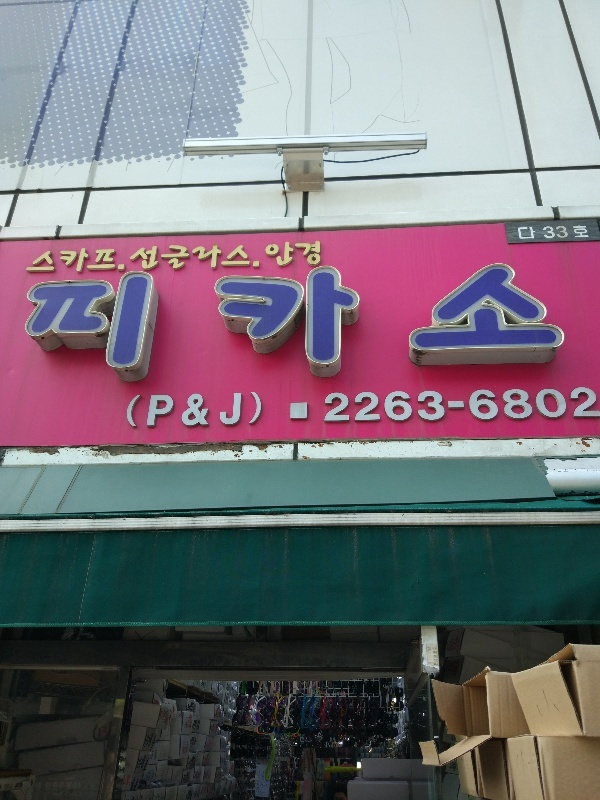text: (49, 264, 64, 374), (65, 264, 80, 374), (81, 264, 96, 374), (97, 264, 112, 374), (113, 264, 128, 374), (129, 264, 144, 374), (145, 264, 160, 374), (161, 264, 176, 374), (177, 264, 192, 374), (193, 264, 208, 374), (209, 264, 224, 374), (225, 264, 240, 374), (241, 264, 256, 374), (257, 264, 272, 374), (273, 264, 288, 374), (289, 264, 304, 374), (305, 264, 320, 374), (321, 264, 336, 374), (337, 264, 352, 374), (353, 264, 368, 374), (369, 264, 384, 374), (385, 264, 400, 374), (401, 264, 416, 374), (417, 264, 432, 374), (433, 264, 448, 374), (449, 264, 464, 374), (465, 264, 480, 374), (481, 264, 496, 374), (497, 264, 512, 374), (513, 264, 528, 374), (529, 264, 544, 374), (545, 264, 560, 374), (35, 264, 48, 374), (289, 381, 304, 427), (305, 381, 320, 427), (321, 381, 336, 427), (337, 381, 352, 427), (353, 381, 368, 427), (369, 381, 384, 427), (385, 381, 400, 427), (401, 381, 416, 427), (417, 381, 432, 427), (433, 381, 448, 427), (449, 381, 464, 427), (465, 381, 480, 427), (481, 381, 496, 427), (497, 381, 512, 427), (513, 381, 528, 427), (529, 381, 544, 427), (545, 381, 560, 427), (561, 381, 576, 427), (577, 381, 592, 427), (561, 264, 567, 374), (129, 390, 144, 429), (145, 390, 160, 429), (161, 390, 176, 429), (177, 390, 192, 429), (193, 390, 208, 429), (209, 390, 224, 429), (225, 390, 240, 429), (241, 390, 256, 429), (273, 239, 288, 269), (289, 239, 304, 269), (305, 239, 320, 269), (145, 244, 160, 273), (161, 244, 176, 273), (177, 244, 192, 273), (193, 244, 208, 273), (209, 244, 224, 273), (225, 244, 240, 273), (241, 244, 256, 273), (49, 246, 64, 275), (65, 246, 80, 275), (81, 246, 96, 275), (97, 246, 112, 275), (113, 246, 128, 275), (593, 381, 600, 427), (449, 631, 461, 656), (257, 390, 264, 429), (49, 776, 64, 793), (65, 776, 80, 793), (529, 224, 544, 241), (545, 224, 560, 241), (561, 224, 576, 241), (148, 733, 160, 754), (449, 659, 462, 678), (264, 239, 272, 269), (136, 244, 144, 273), (146, 769, 160, 785), (193, 786, 208, 800), (36, 776, 48, 793), (577, 224, 589, 241), (41, 246, 48, 275), (193, 719, 208, 732), (182, 738, 192, 757), (518, 224, 528, 241), (451, 760, 464, 773), (134, 776, 144, 792), (211, 723, 224, 735), (226, 693, 240, 704), (195, 771, 208, 782), (194, 704, 208, 714), (161, 708, 169, 725), (165, 717, 176, 729), (183, 771, 192, 784), (216, 768, 224, 782), (229, 734, 240, 744), (229, 710, 240, 720), (231, 699, 240, 711), (228, 683, 240, 692), (4, 782, 16, 791), (145, 755, 151, 772), (215, 707, 224, 718), (151, 749, 160, 760), (201, 784, 208, 798), (451, 735, 464, 742), (233, 683, 240, 696), (257, 244, 260, 273), (201, 681, 208, 693), (170, 710, 176, 724), (126, 390, 128, 429), (219, 707, 224, 722), (196, 680, 208, 686), (185, 719, 192, 729), (165, 701, 176, 707), (433, 647, 448, 651), (257, 786, 272, 790), (209, 739, 214, 751), (434, 654, 448, 658), (220, 754, 224, 768), (188, 715, 192, 729), (187, 789, 192, 800), (193, 755, 197, 768), (81, 776, 84, 793), (141, 755, 144, 772), (209, 769, 213, 781), (193, 737, 197, 749), (287, 381, 288, 427), (433, 651, 448, 654), (257, 783, 272, 786), (257, 779, 272, 782), (155, 697, 160, 706), (261, 783, 272, 787), (225, 708, 229, 719), (129, 774, 132, 788), (434, 663, 448, 666), (434, 659, 448, 662), (258, 776, 272, 779), (134, 796, 144, 800), (257, 791, 267, 795), (262, 779, 272, 783), (262, 775, 272, 779), (219, 728, 224, 736), (188, 703, 192, 713), (163, 797, 176, 800), (259, 772, 272, 775), (189, 755, 192, 768), (173, 706, 176, 719), (125, 774, 128, 786), (205, 754, 208, 766), (221, 739, 224, 751), (321, 239, 322, 269), (155, 793, 160, 799), (150, 797, 160, 800), (225, 754, 227, 768), (222, 714, 224, 728), (263, 772, 272, 775), (447, 631, 448, 656), (206, 769, 208, 781), (209, 754, 211, 766), (225, 739, 227, 751), (190, 737, 192, 749), (427, 646, 432, 650), (427, 651, 432, 655), (193, 703, 195, 713), (447, 659, 448, 678), (138, 797, 144, 800), (266, 780, 272, 783), (142, 772, 144, 781), (427, 649, 432, 652), (127, 774, 128, 788), (265, 784, 272, 786), (207, 739, 208, 751), (223, 708, 224, 719), (142, 795, 144, 800)
